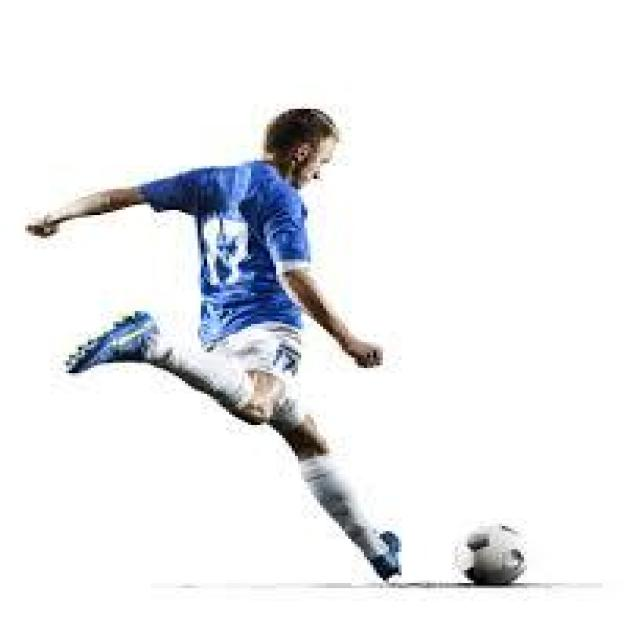Soccer Ball: (455, 520, 530, 586)
